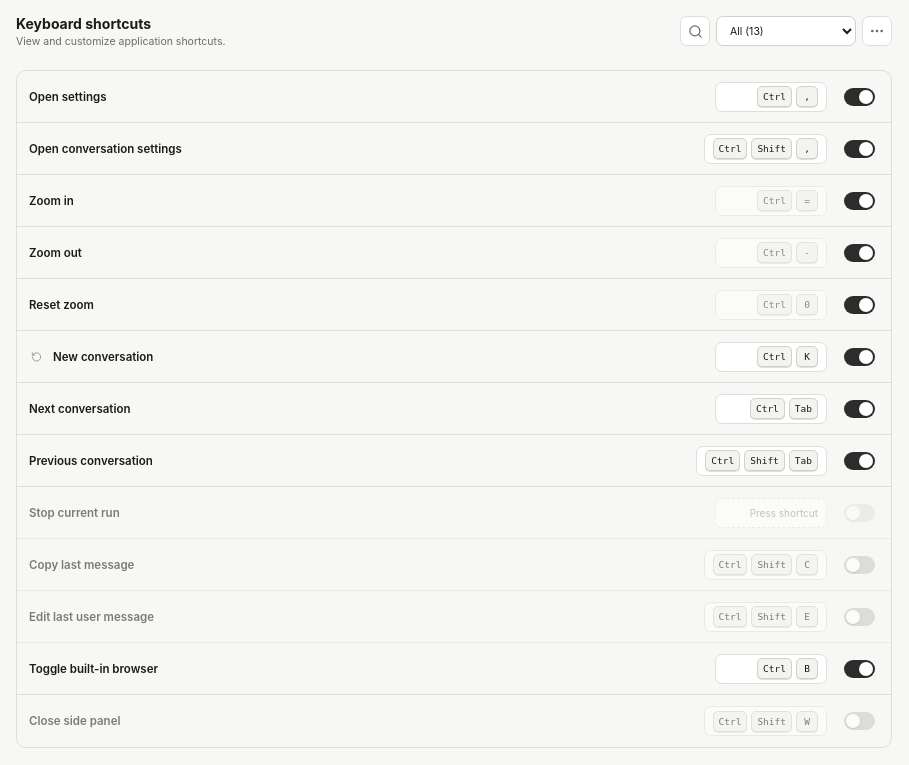
Test case: ShortcutSettings › cancels recording on Escape without changing the binding
The image size is (909, 765).
Click the button with aria-label "Change shortcut for “New conversation”" at point(771, 356), box [715,342,827,372]
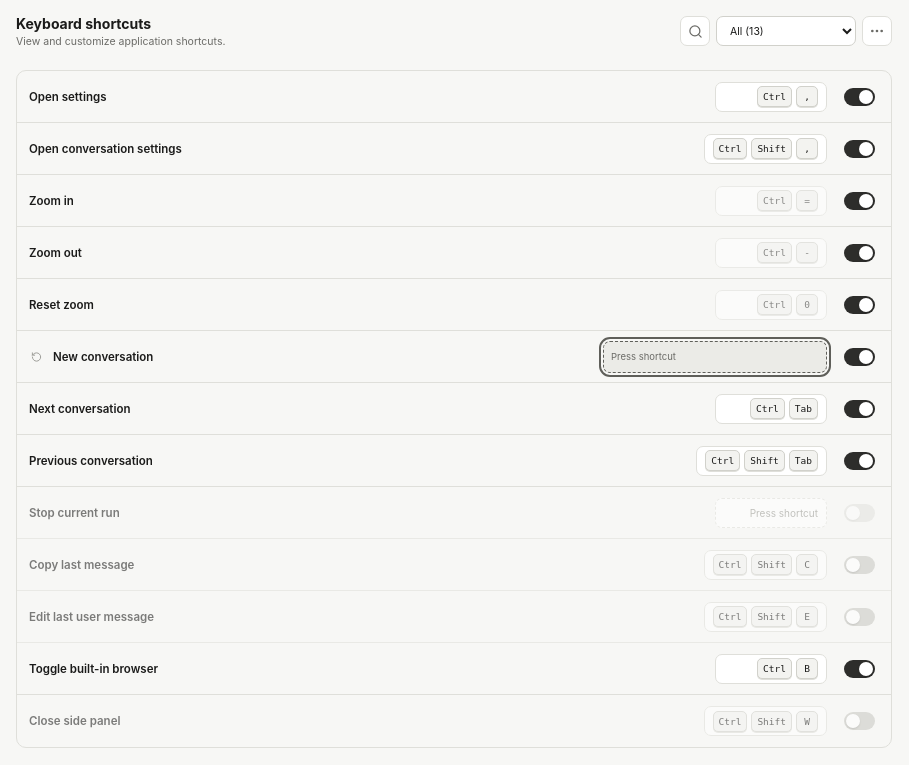
Press Escape in the button with aria-label "Record shortcut for “New conversation”", box [603,340,827,372]
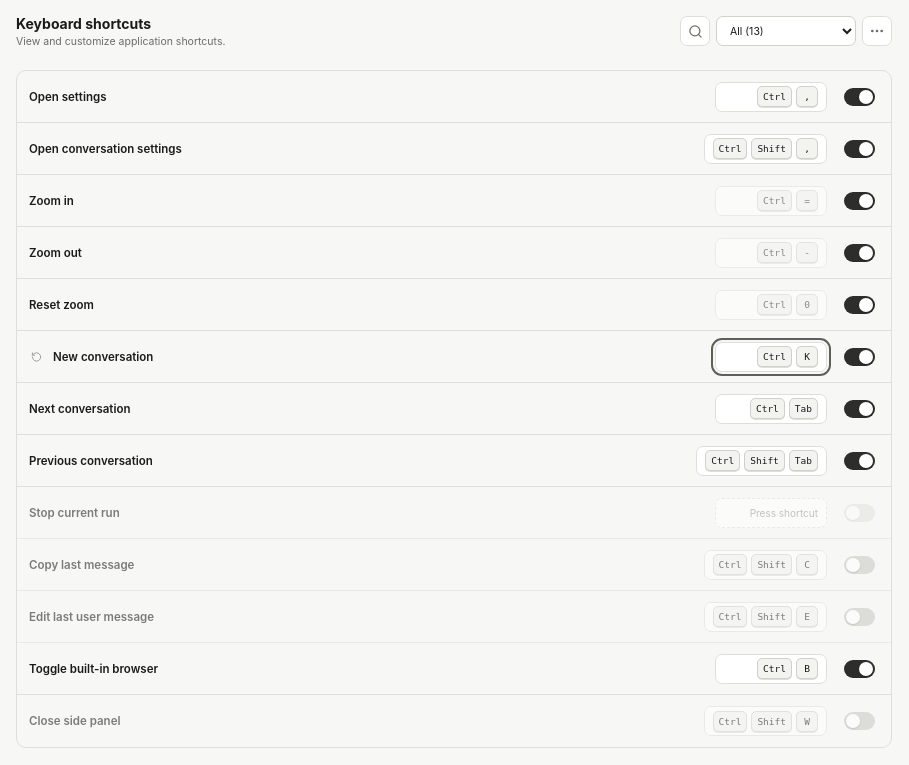
Result: the button with aria-label "Change shortcut for “New conversation”" is shown at [715,342,827,372]
